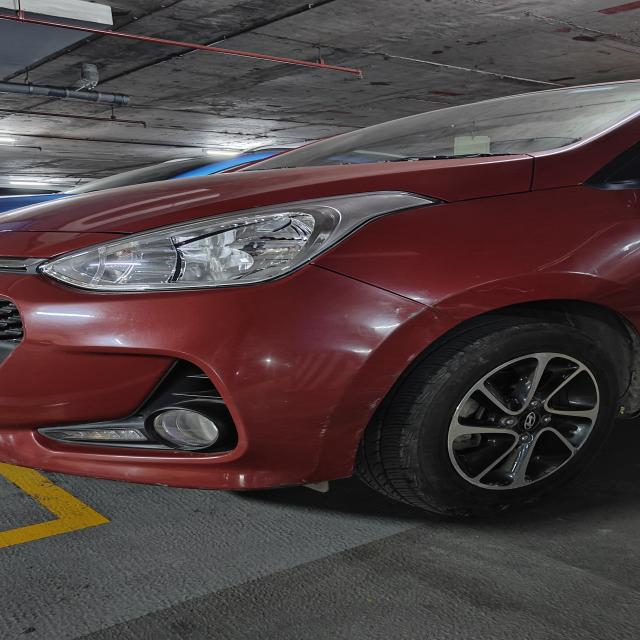scratch: (339, 396, 377, 458), (312, 410, 337, 450), (474, 284, 536, 298), (400, 306, 449, 322), (423, 289, 467, 303)
